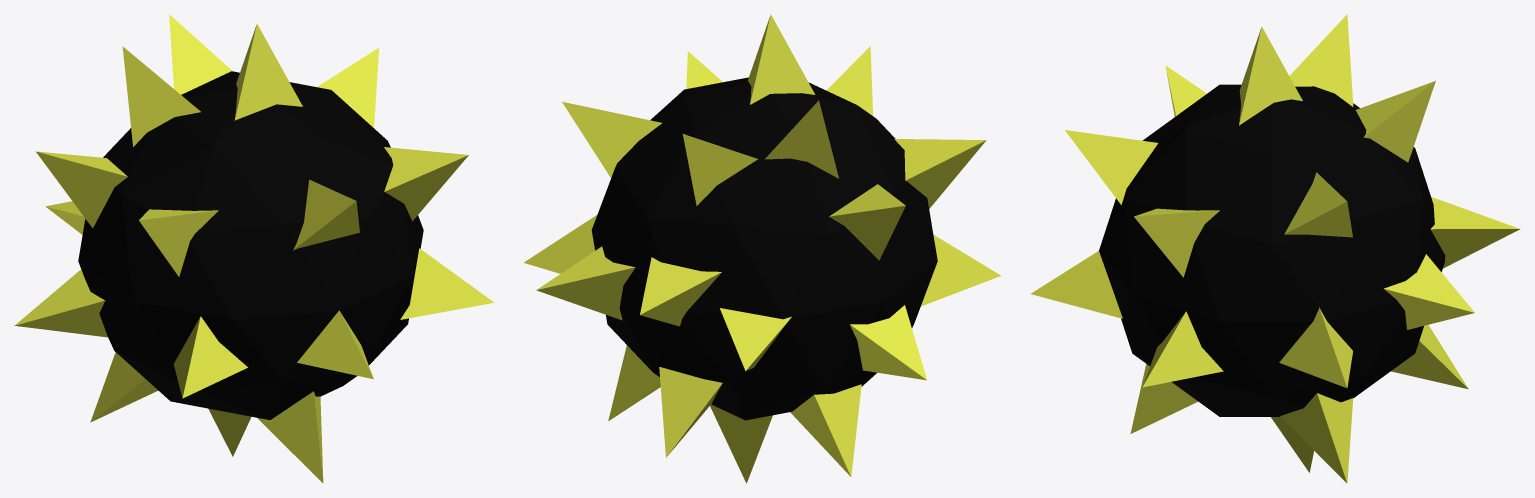
File: bomba.glb
The picture shows the model from 3 angles, left to right: view 1: azimuth 30°, elevation 25°; view 2: azimuth 150°, elevation 25°; view 3: azimuth 270°, elevation 25°; orthographic projection.
Parts seen in each view (by area): view 1: Icosphere, Cone.021; view 2: Icosphere, Cone.021; view 3: Icosphere, Cone.021.
Part boxes in pixels (<box>): Icosphere: <box>78,71,423,419</box>; Cone.021: <box>14,14,494,483</box>; Icosphere: <box>591,77,937,420</box>; Cone.021: <box>524,14,1000,483</box>; Icosphere: <box>1099,84,1445,416</box>; Cone.021: <box>1031,14,1520,483</box>.
Bounding box in the file's own units: 2.64 × 2.82 × 2.8.
